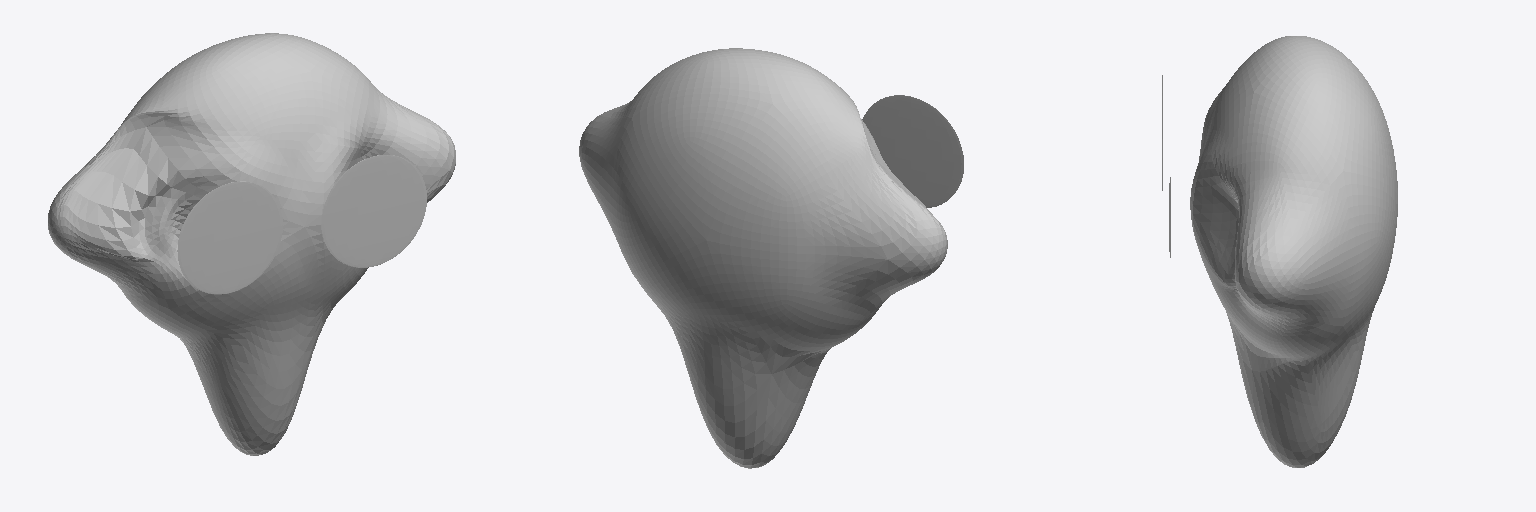
File: head.obj
The picture shows the model from 3 angles: view 1: azimuth 30°, elevation 25°; view 2: azimuth 150°, elevation 25°; view 3: azimuth 270°, elevation 25°; orthographic projection.
Parts seen in each view (by area): view 1: pPlatonic1, pSphere1, pasted__pSphere1 group; view 2: pPlatonic1, pSphere1; view 3: pPlatonic1.
Boxes of the visible parts, x1=… form: pPlatonic1: x1=48, y1=33, x2=455, y2=455; pSphere1: x1=177, y1=181, x2=282, y2=294; pasted__pSphere1 group: x1=321, y1=155, x2=426, y2=267; pPlatonic1: x1=579, y1=48, x2=947, y2=468; pSphere1: x1=862, y1=95, x2=963, y2=207; pPlatonic1: x1=1190, y1=36, x2=1397, y2=467.
Bounding box in the file's own units: 13.75 × 14.23 × 7.4.